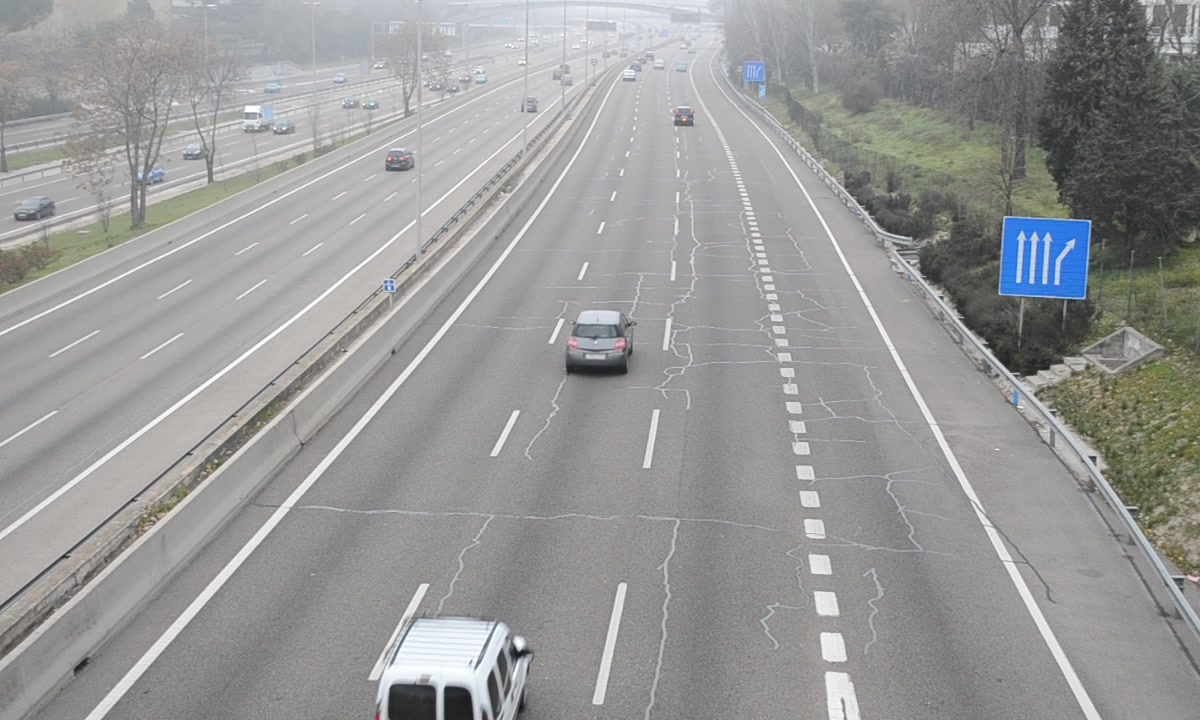car: (566, 309, 629, 370), (673, 105, 695, 129)
van: (372, 616, 531, 720)
